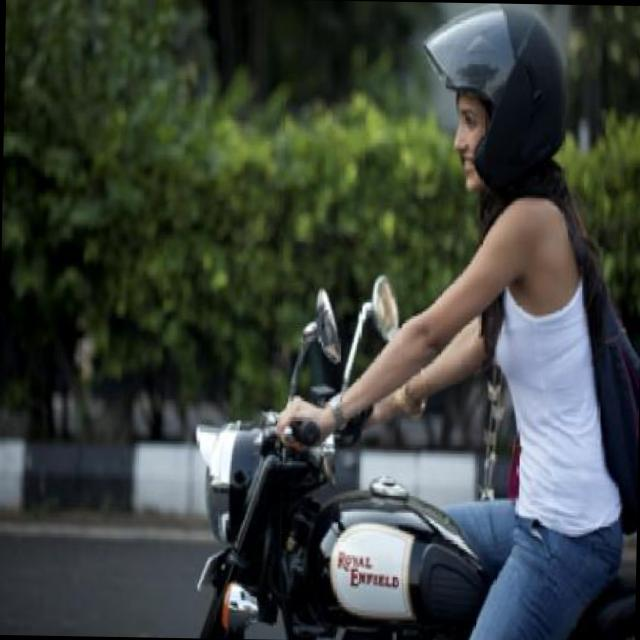With Helmet: (418, 2, 577, 198)
